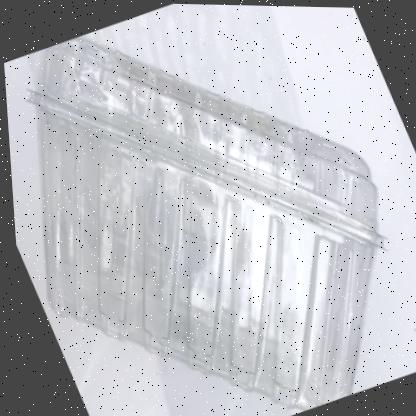Plastic: (27, 35, 381, 409)
